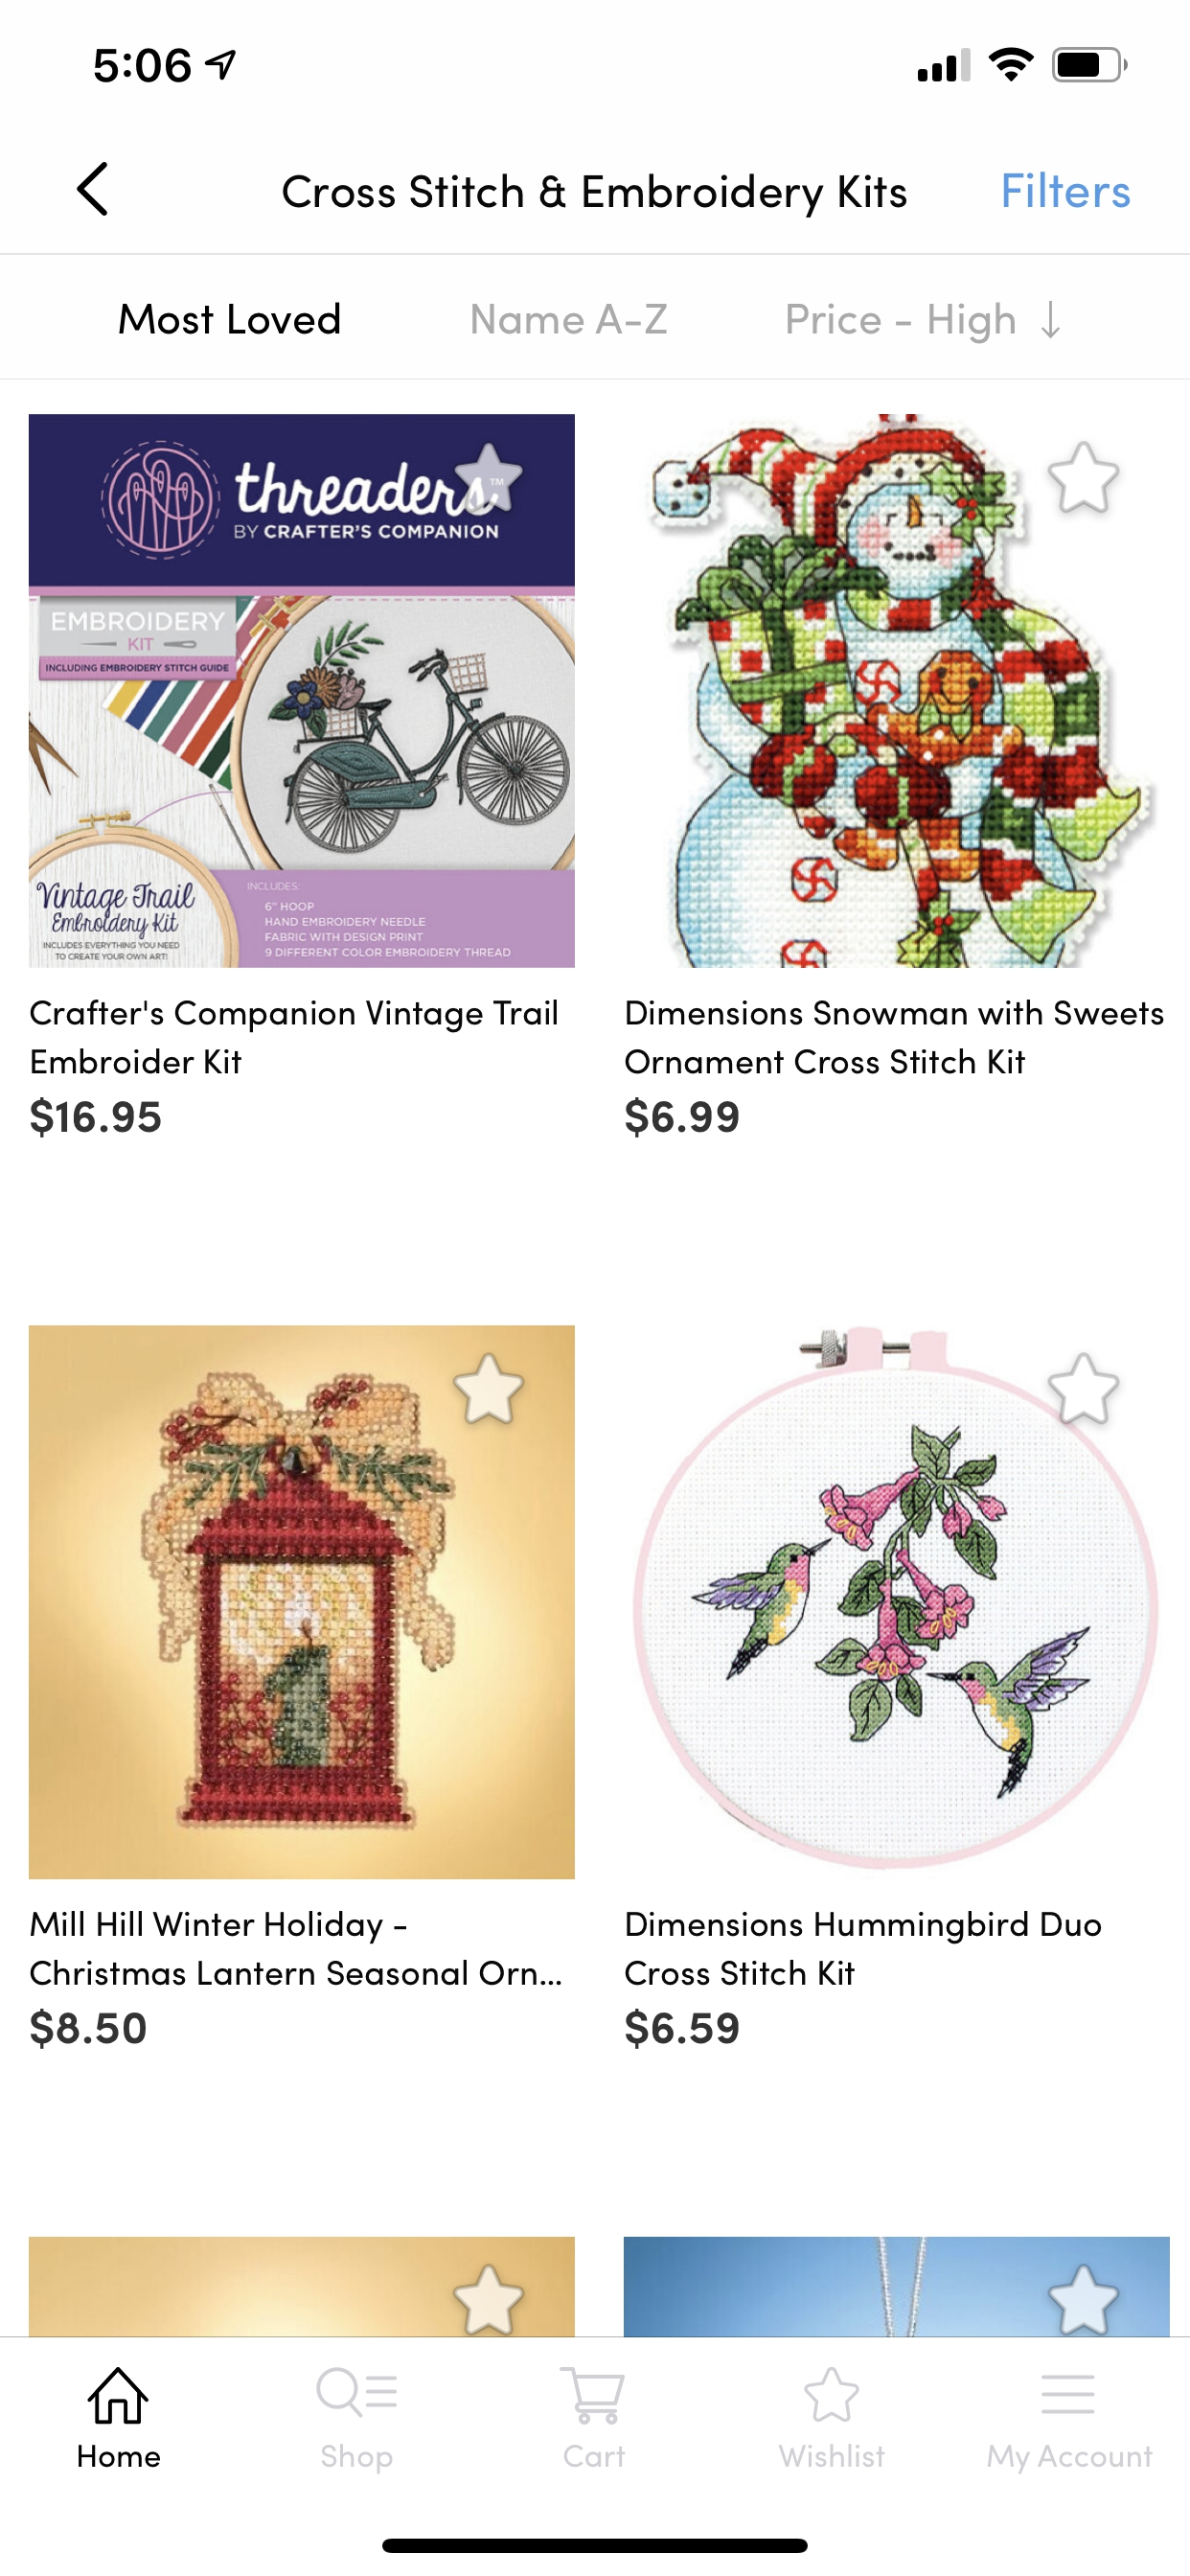Icon: (1047, 1350, 1119, 1424), (1047, 2262, 1119, 2334), (452, 2262, 524, 2334), (452, 1352, 524, 1424), (1047, 442, 1119, 514), (455, 444, 523, 511), (316, 2366, 398, 2418), (559, 2366, 625, 2425), (87, 2366, 148, 2425), (804, 2366, 860, 2422), (1040, 2374, 1095, 2413), (77, 163, 108, 217), (1040, 301, 1060, 338)
Image: (28, 1326, 575, 1879), (28, 414, 575, 968), (631, 1326, 1159, 1870), (644, 414, 1154, 969)
Text: (625, 999, 1164, 1074), (30, 1911, 562, 1986), (30, 999, 557, 1074), (625, 1911, 1101, 1986), (283, 174, 906, 218), (787, 302, 1014, 345), (118, 302, 340, 335), (472, 304, 667, 335), (31, 1097, 163, 1137), (988, 2445, 1152, 2474), (1003, 171, 1129, 209), (31, 2008, 146, 2049), (626, 1097, 738, 1138), (626, 2009, 740, 2049), (777, 2443, 886, 2468), (322, 2443, 393, 2474), (79, 2445, 161, 2468), (564, 2445, 626, 2468)
UpperTaskBar: (94, 48, 1128, 84)
